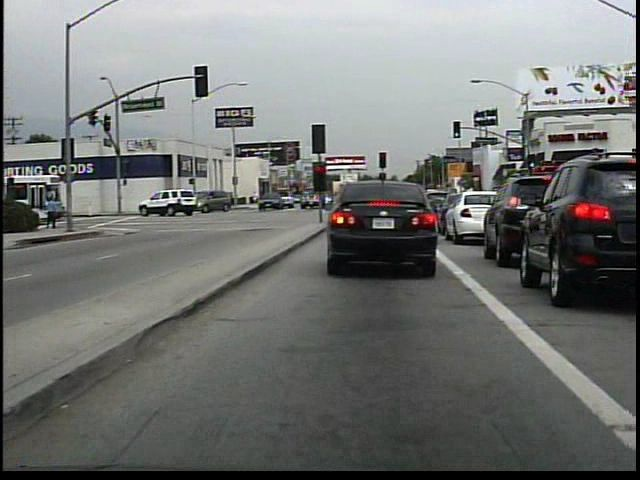person: (46, 192, 66, 233), (254, 187, 261, 208)
